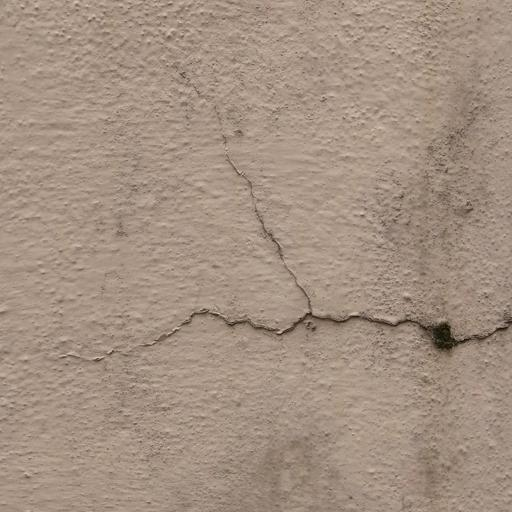minor_crack: (70, 26, 512, 395)
